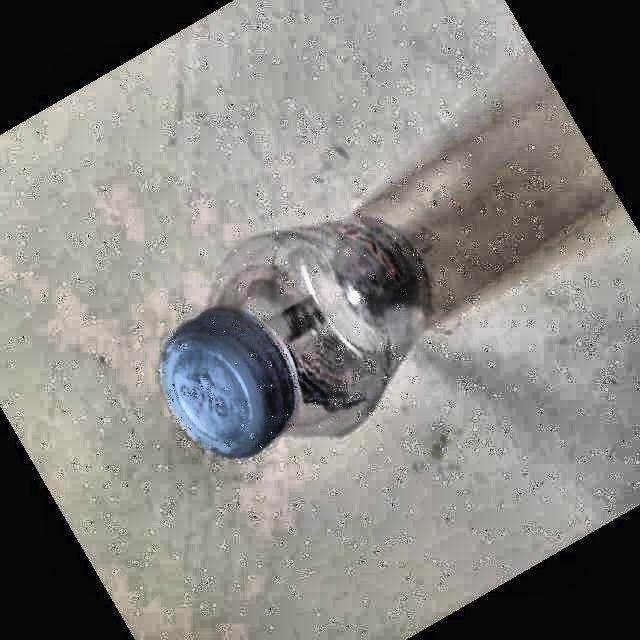plastic: (162, 218, 429, 458)
